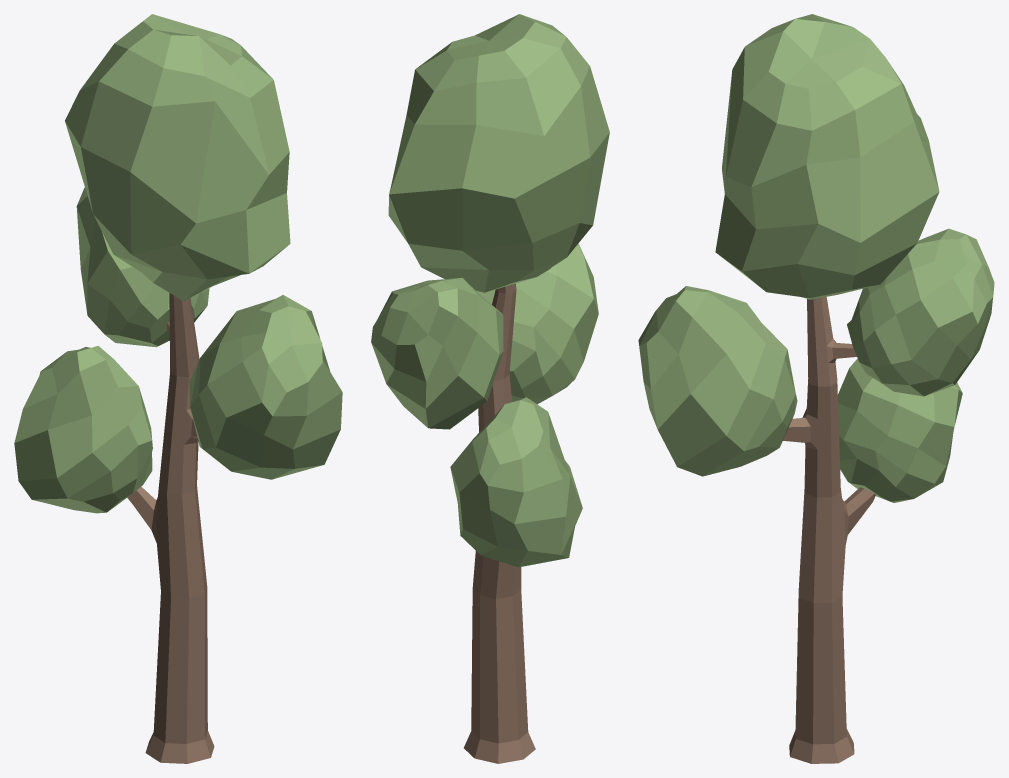
The model's file is Leaves_02.002.fbx.
3 views of the same model, side by side, from view 1: azimuth 30°, elevation 25°; view 2: azimuth 150°, elevation 25°; view 3: azimuth 270°, elevation 25° (orthographic).
Parts seen in each view (by area): view 1: Leaves_02.002; view 2: Leaves_02.002; view 3: Leaves_02.002.
Part boxes in pixels (<box>): Leaves_02.002: <box>14,14,342,763</box>; Leaves_02.002: <box>371,14,609,763</box>; Leaves_02.002: <box>638,14,994,763</box>.
Size of the model in its own units: 123 by 401 by 180.
